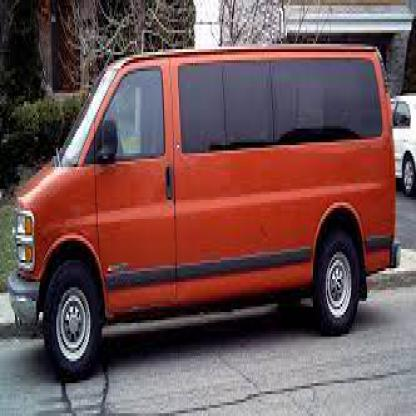van: (8, 41, 400, 383)
